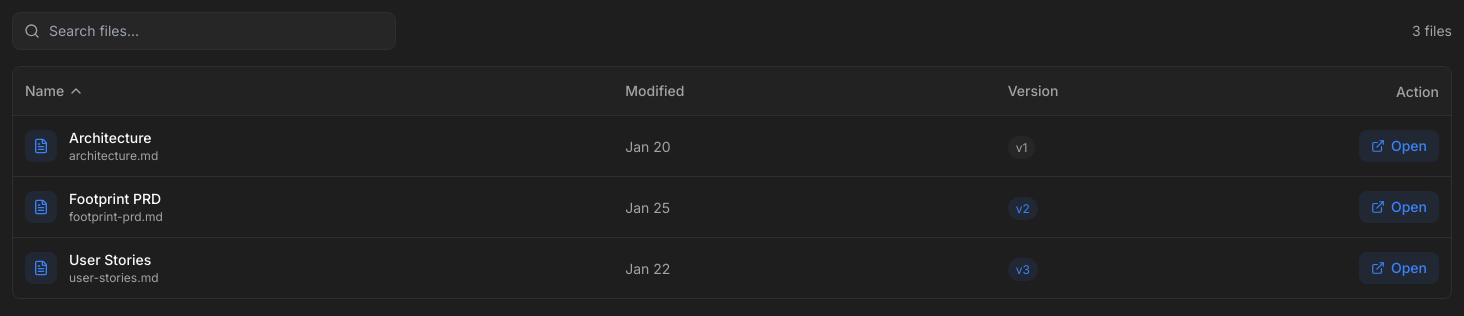
Test: FileListView › Search › should clear search when X button is clicked
Step 1. Type "PRD" into the field with placeholder "Search files..." → (204, 31), box [12,12,396,50]
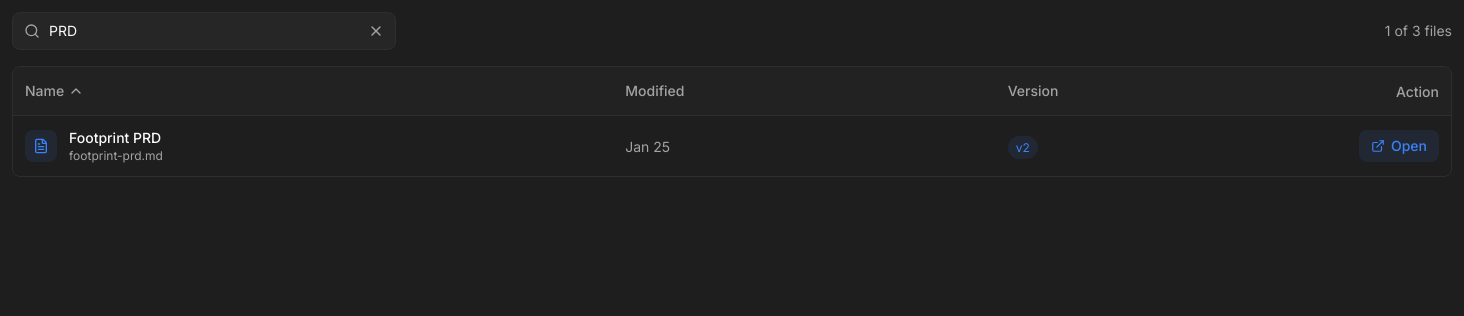
Step 2. Click the button named "clear" → (376, 31), box [364,19,388,43]
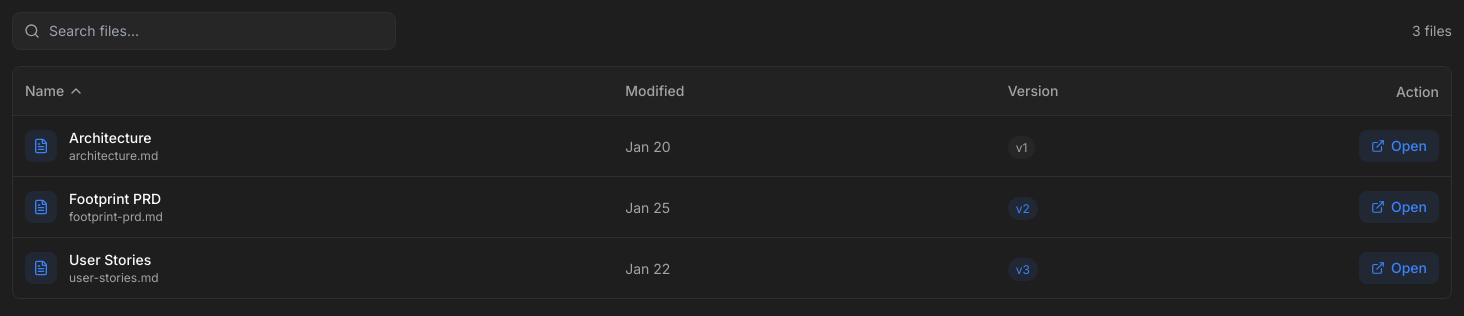
expect the text "Architecture" is shown: met, box [69,128,158,148]
expect the text "User Stories" is shown: met, box [69,250,158,270]
